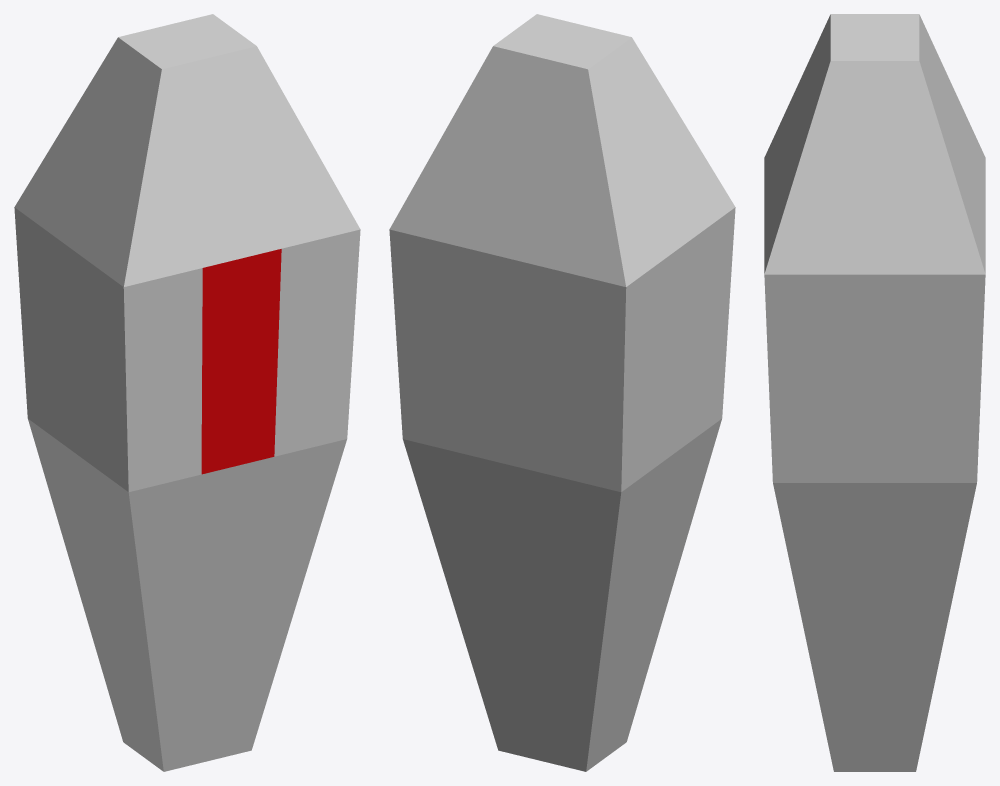
The model's file is basic_performer.glb.
3 renders of one model, left to right at view 1: azimuth 30°, elevation 25°; view 2: azimuth 150°, elevation 25°; view 3: azimuth 270°, elevation 25°, orthographic.
Parts seen in each view (by area): view 1: Cube; view 2: Cube; view 3: Cube.
Part boxes in pixels (x1,y1,x2,y2): Cube: (14, 14, 360, 771); Cube: (389, 14, 735, 771); Cube: (764, 14, 985, 771).
Bounding box in the file's own units: 0.7032 × 2 × 0.5626.
